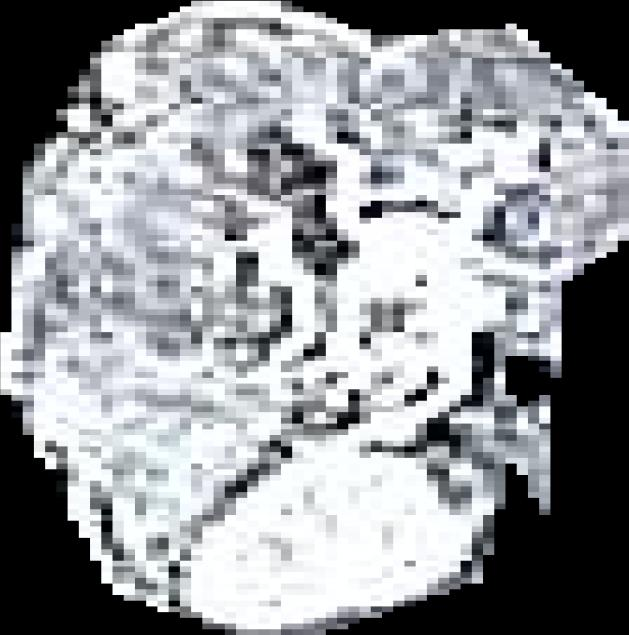tumor_good_chance: (0, 1, 629, 635)
